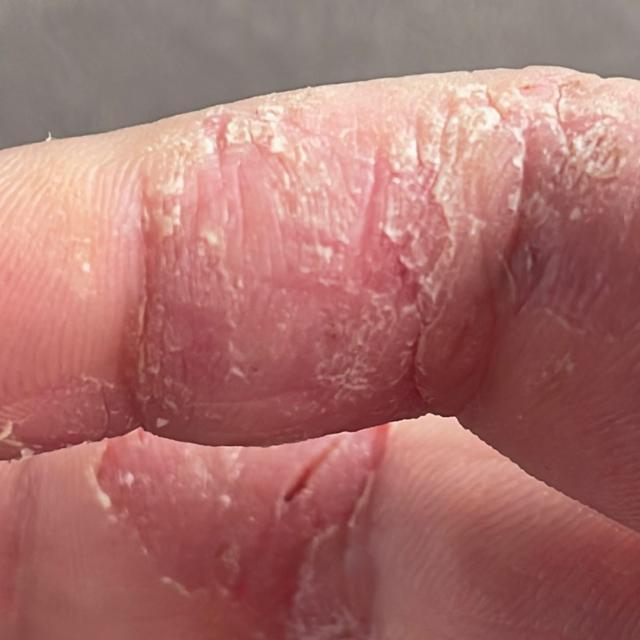Eczema: (18, 93, 622, 411), (102, 431, 382, 640)
